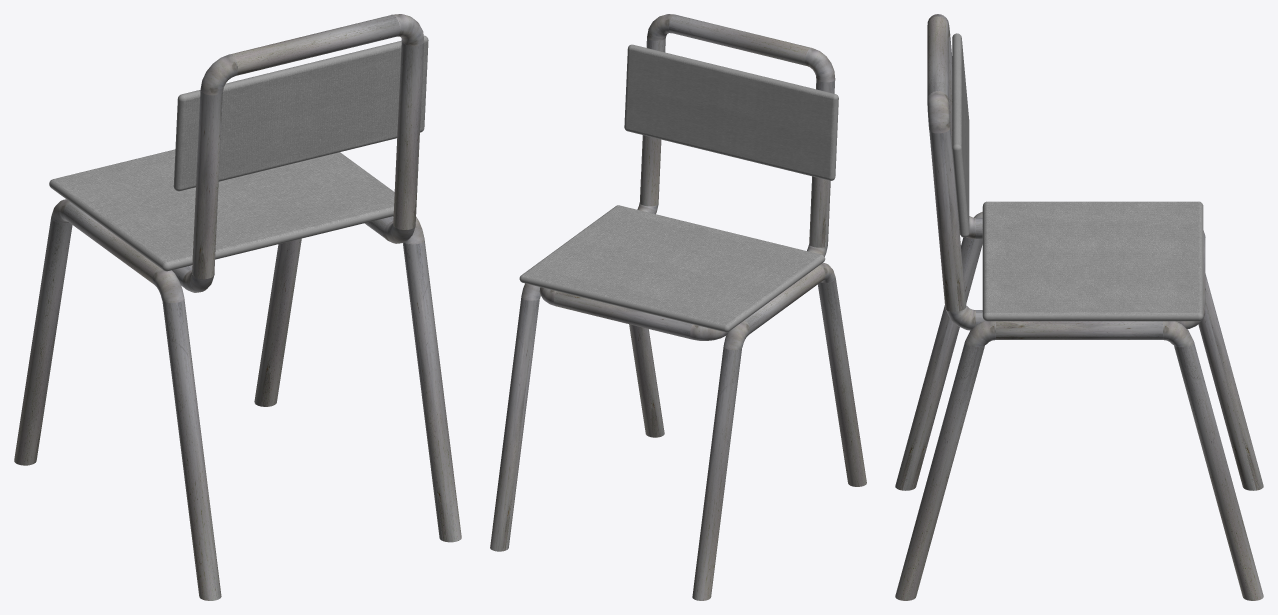
Rendered from Stol.fbx.
3 views of the same model, side by side, from view 1: azimuth 30°, elevation 25°; view 2: azimuth 150°, elevation 25°; view 3: azimuth 270°, elevation 25° (orthographic). The views are drawn at different scales.
Parts seen in each view (by area): view 1: pCylinder21; view 2: pCylinder21; view 3: pCylinder21.
Part boxes in pixels (left/top/right/bottom): pCylinder21: left=14, top=14, right=461, bottom=600; pCylinder21: left=490, top=14, right=866, bottom=600; pCylinder21: left=895, top=14, right=1263, bottom=600.
Size of the model in its own units: 0.3896 by 0.7432 by 0.5092.
2 materials, 2 textured.
